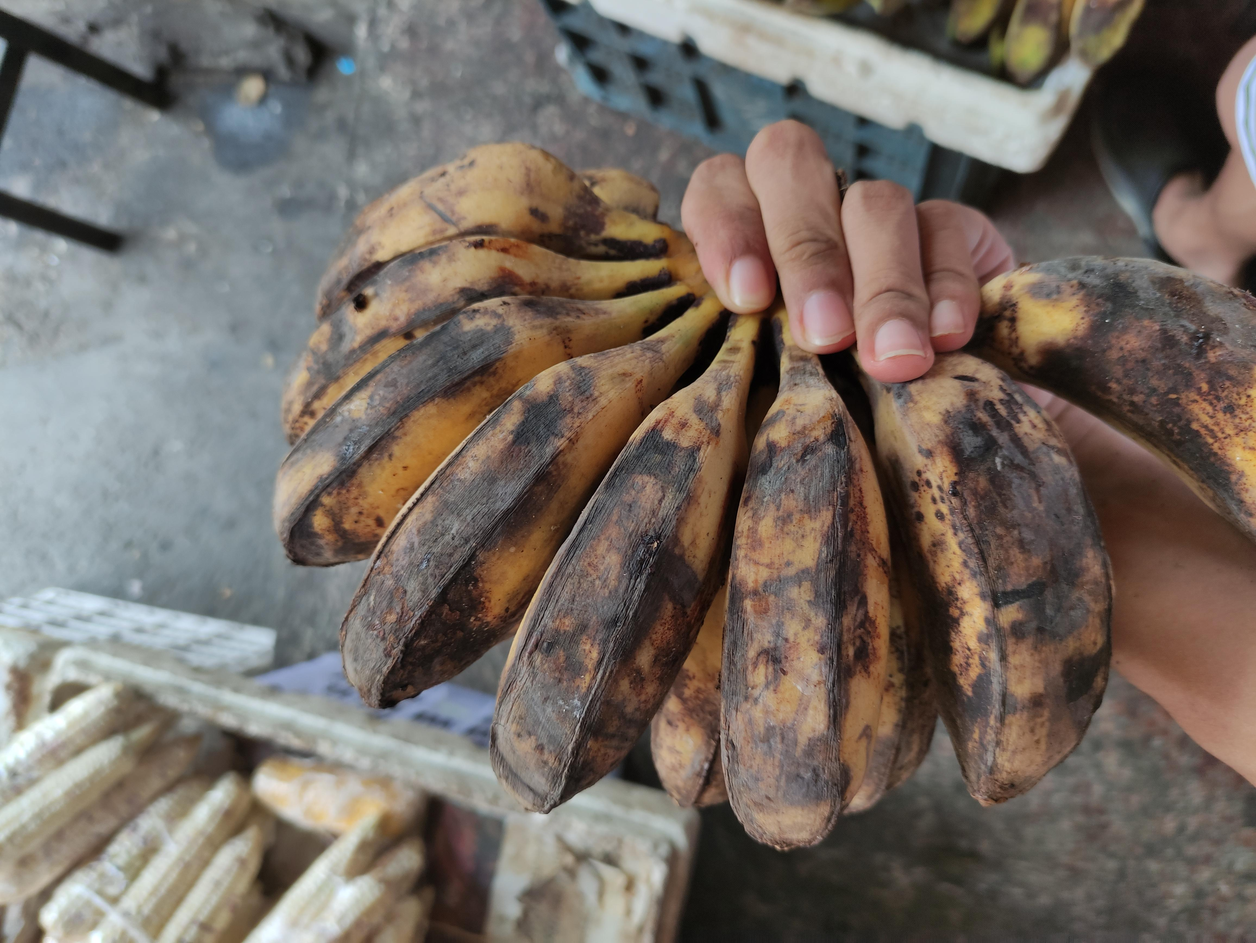overripe: (274, 143, 1256, 849)
